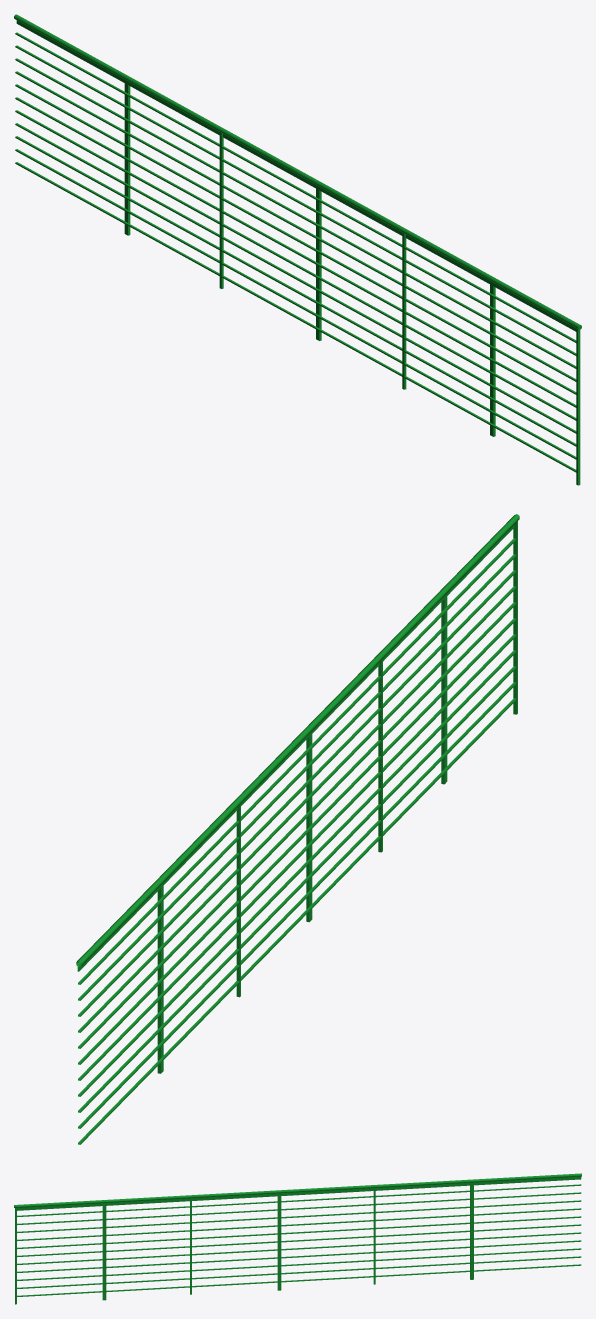
The model's file is FenceLateralRamp02.fbx.
3 renders of one model, top to bottom at view 1: azimuth 30°, elevation 25°; view 2: azimuth 150°, elevation 25°; view 3: azimuth 270°, elevation 25°, orthographic. The views are drawn at different scales.
Parts seen in each view (by area): view 1: FenceLateralRamp02; view 2: FenceLateralRamp02; view 3: FenceLateralRamp02.
Part boxes in pixels (x1=…): FenceLateralRamp02: x1=14, y1=14, x2=581, y2=485; FenceLateralRamp02: x1=76, y1=514, x2=519, y2=1144; FenceLateralRamp02: x1=14, y1=1173, x2=581, y2=1304.
Bounding box in the file's own units: 87.95 × 124 × 644.
